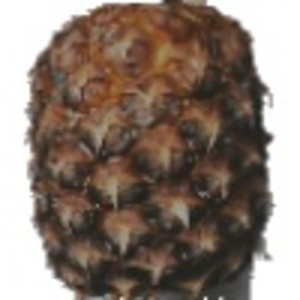abacaxi: (23, 1, 275, 299)
